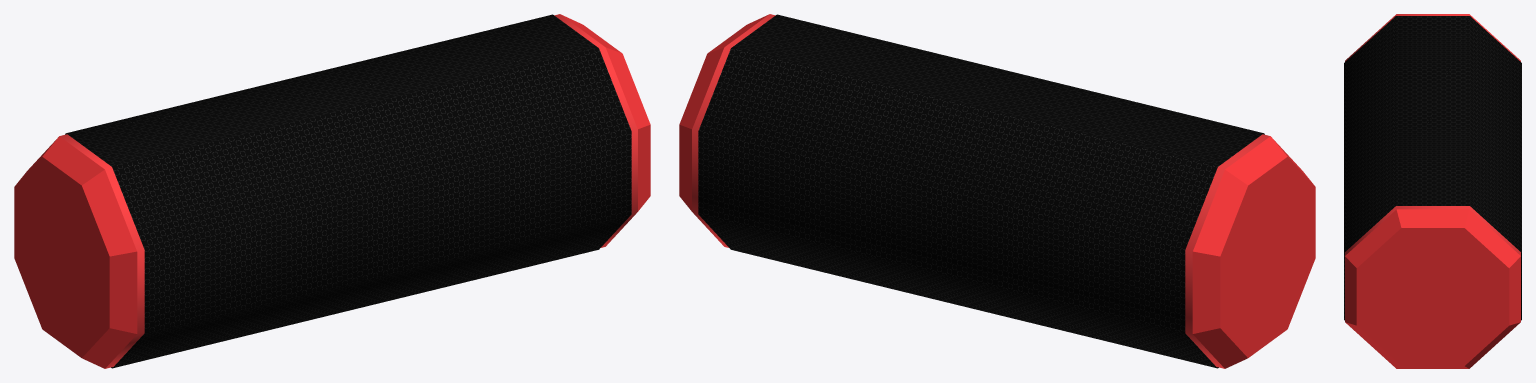
The model's file is Itr_Obj_Speaker5_05.FBX.
3 renders of one model, left to right at view 1: azimuth 30°, elevation 25°; view 2: azimuth 150°, elevation 25°; view 3: azimuth 270°, elevation 25°, orthographic. The views are drawn at different scales.
Parts seen in each view (by area): view 1: Itr_Obj_Speaker5_05; view 2: Itr_Obj_Speaker5_05; view 3: Itr_Obj_Speaker5_05.
Part boxes in pixels (<box>): Itr_Obj_Speaker5_05: <box>14,14,650,368</box>; Itr_Obj_Speaker5_05: <box>679,14,1315,368</box>; Itr_Obj_Speaker5_05: <box>1344,14,1521,368</box>.
Size of the model in its own units: 22.7 by 8.08 by 8.08.
